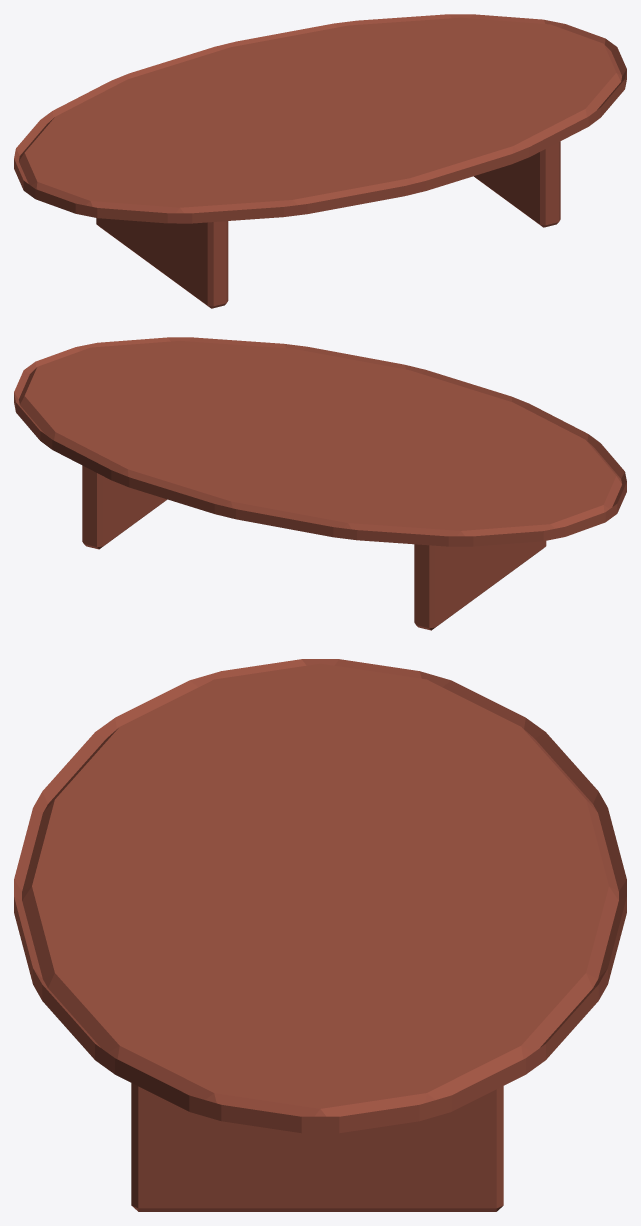
Rendered from comms_roundtable.fbx.
The picture shows the model from 3 angles, top to bottom: view 1: azimuth 30°, elevation 25°; view 2: azimuth 150°, elevation 25°; view 3: azimuth 270°, elevation 25°; orthographic projection. The views are drawn at different scales.
Parts seen in each view (by area): view 1: Circle; view 2: Circle; view 3: Circle.
Part boxes in pixels (bbox=[...]): Circle: bbox=[14, 14, 626, 308]; Circle: bbox=[14, 337, 626, 630]; Circle: bbox=[14, 659, 626, 1211].
Size of the model in its own units: 351 by 65.82 by 199.
